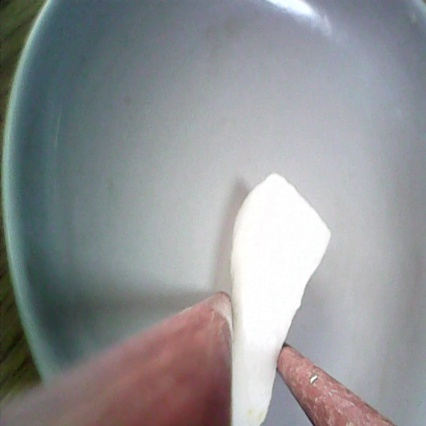white_chinese-yam: (222, 170, 329, 426)
